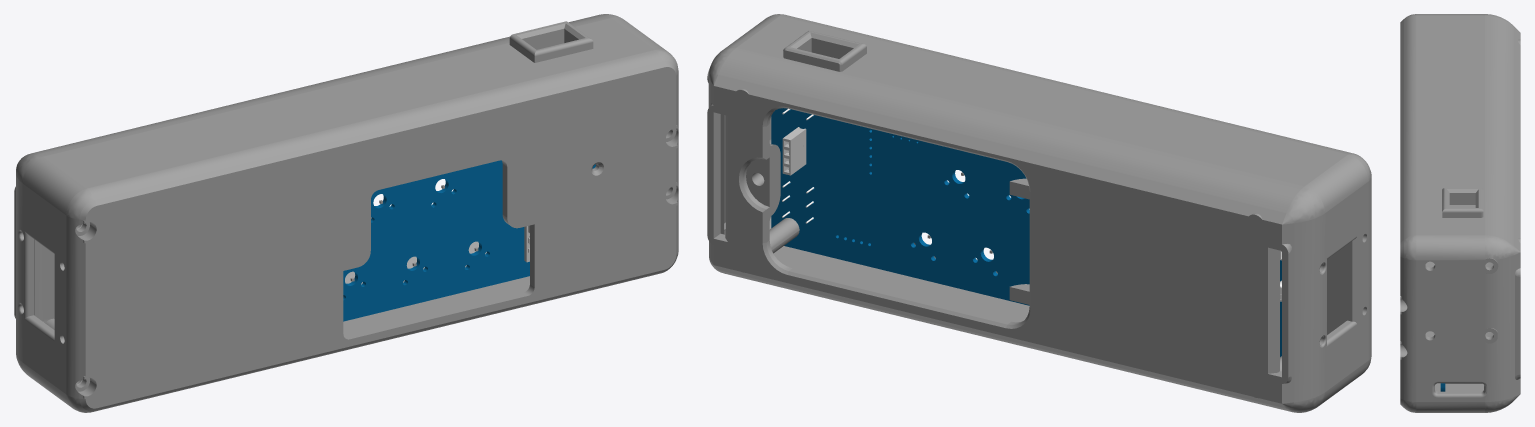
The model's file is Synth+Wave+Left+Hand.glb.
3 renders of one model, left to right at view 1: azimuth 30°, elevation 25°; view 2: azimuth 150°, elevation 25°; view 3: azimuth 270°, elevation 25°, orthographic. The views are drawn at different scales.
Visible parts, largest first — view 1: empty_117, empty_116, empty_2; view 2: empty_116, empty_2, empty_117, empty_61; view 3: empty_116, empty_117.
Part boxes in pixels (bbox=[...]): empty_117: bbox=[66, 49, 678, 412]; empty_116: bbox=[14, 14, 666, 407]; empty_2: bbox=[343, 160, 595, 321]; empty_116: bbox=[707, 15, 1368, 412]; empty_2: bbox=[771, 108, 1281, 356]; empty_117: bbox=[769, 14, 1371, 371]; empty_61: bbox=[782, 127, 806, 175]; empty_116: bbox=[1416, 14, 1520, 412]; empty_117: bbox=[1400, 14, 1416, 412].
Bounding box in the file's own units: 0.1924 × 0.0701 × 0.0416.
